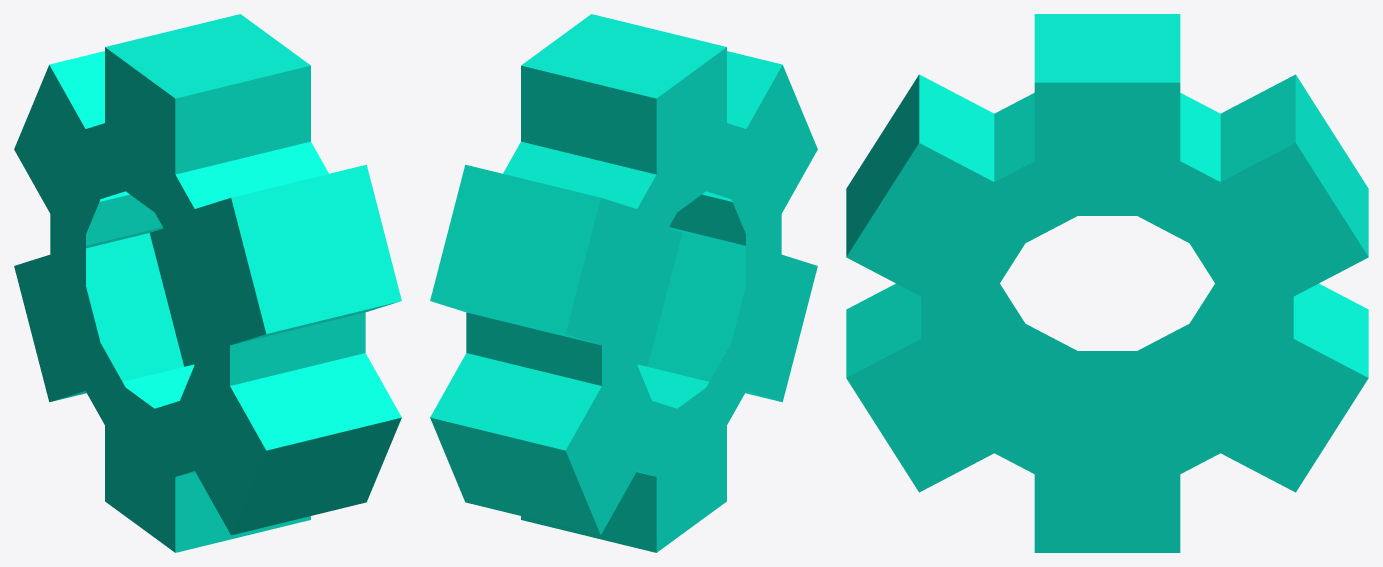
The model's file is cryptex_4.fbx.
3 views of the same model, side by side, from view 1: azimuth 30°, elevation 25°; view 2: azimuth 150°, elevation 25°; view 3: azimuth 270°, elevation 25° (orthographic). The views are drawn at different scales.
Parts seen in each view (by area): view 1: Object017; view 2: Object017; view 3: Object017.
Part boxes in pixels (<box>): Object017: <box>14,14,401,552</box>; Object017: <box>430,14,817,552</box>; Object017: <box>846,14,1368,552</box>.
Size of the model in its own units: 0.0219 by 0.0702 by 0.0707.
